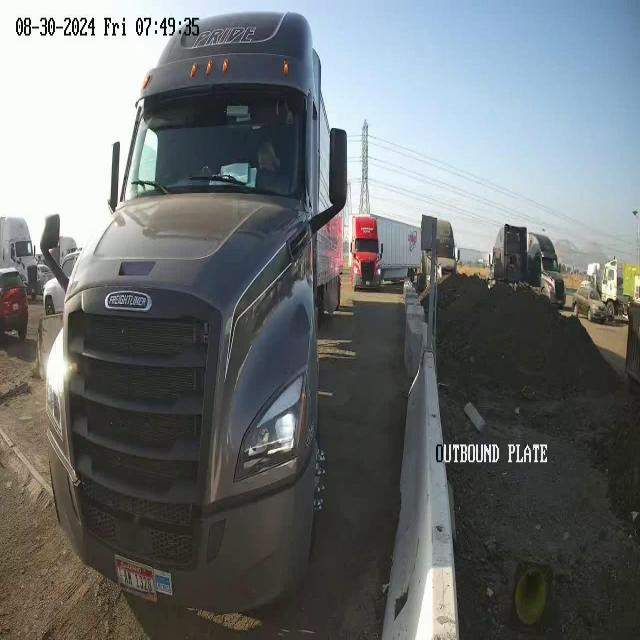TRUCK_CONTAINER: (40, 11, 348, 620), (351, 212, 420, 294)
